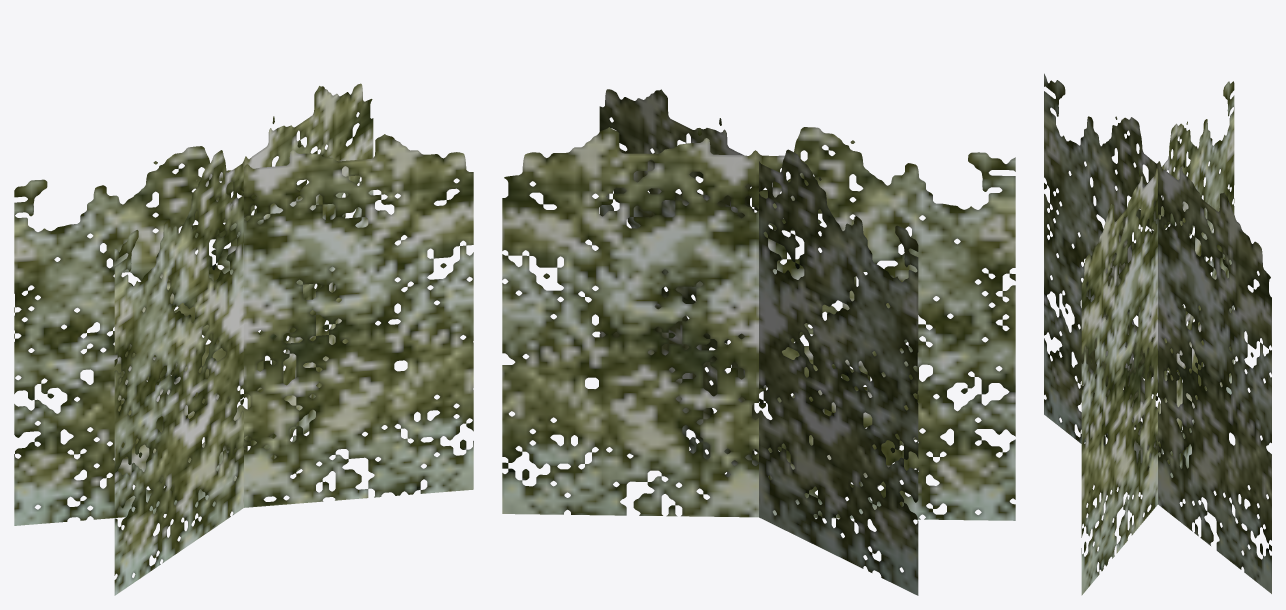
Rendered from bush_overgrown_winter.fbx.
The picture shows the model from 3 angles, left to right: view 1: azimuth 30°, elevation 25°; view 2: azimuth 150°, elevation 25°; view 3: azimuth 270°, elevation 25°; orthographic projection. The views are drawn at different scales.
Parts seen in each view (by area): view 1: bush_overgrown_winter; view 2: bush_overgrown_winter; view 3: bush_overgrown_winter.
Boxes of the visible parts, x1=… form: bush_overgrown_winter: x1=14, y1=83, x2=473, y2=595; bush_overgrown_winter: x1=502, y1=89, x2=1015, y2=595; bush_overgrown_winter: x1=1044, y1=73, x2=1271, y2=595.
Size of the model in its own units: 105 by 106 by 54.93.
Materials: 1 (1 with a texture image).
